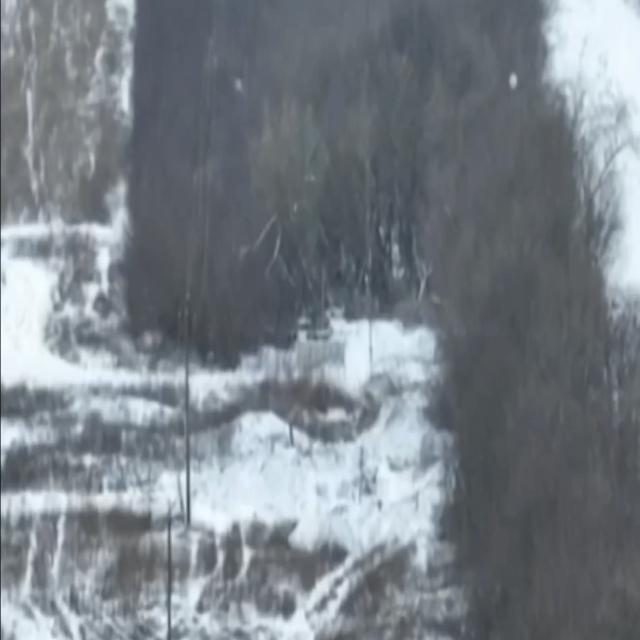vehicle: (296, 300, 340, 341)
